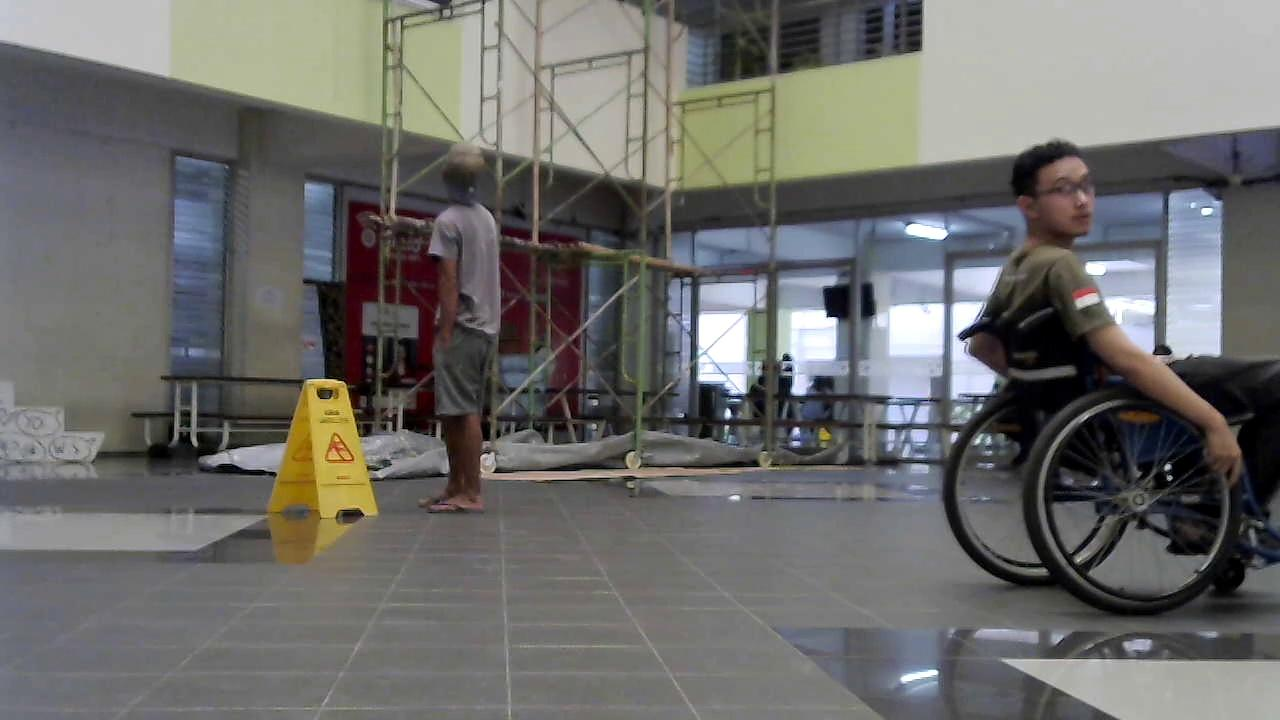person: (962, 138, 1274, 544), (416, 147, 505, 514)
wheelchair: (930, 297, 1280, 625)
